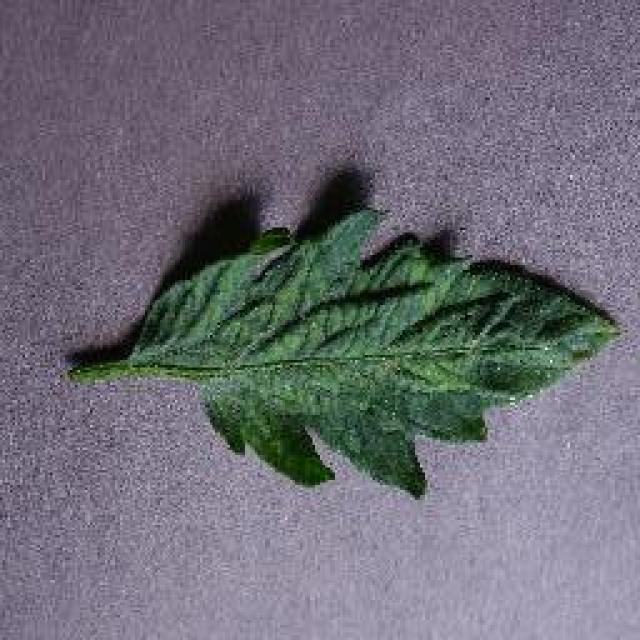Tomato spider mites leaf: (119, 210, 619, 498)
